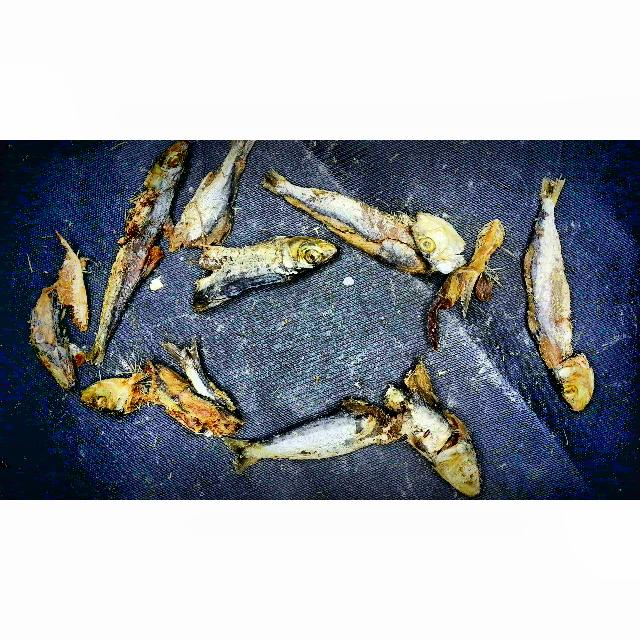Rejected_Body: (165, 144, 269, 250), (296, 180, 416, 270), (266, 394, 401, 468), (93, 206, 175, 314), (145, 364, 242, 442), (522, 222, 575, 355)
Rejected_Head: (191, 233, 338, 312), (397, 398, 489, 498), (113, 144, 195, 223), (24, 289, 78, 395), (411, 207, 467, 276), (78, 370, 149, 419), (556, 348, 596, 415)
Rejected_Tail: (217, 431, 268, 478), (162, 332, 210, 377), (254, 162, 295, 207), (532, 165, 568, 215), (82, 330, 116, 366)
